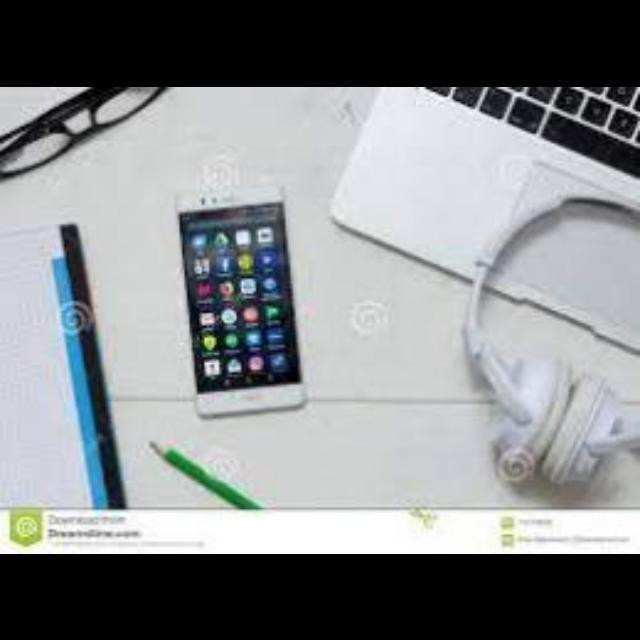PhoneUse: (175, 181, 307, 419)
